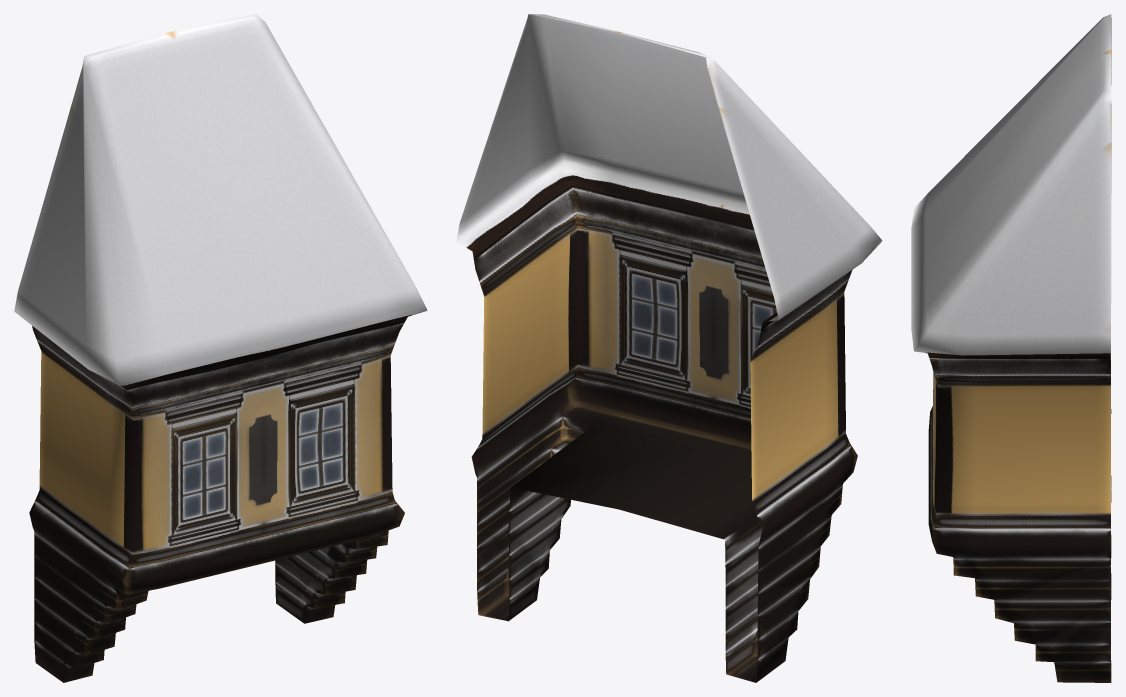
Rendered from Extension-2.FBX.
3 renders of one model, left to right at view 1: azimuth 30°, elevation 25°; view 2: azimuth 150°, elevation 25°; view 3: azimuth 270°, elevation 25°, orthographic. The views are drawn at different scales.
Visible parts, largest first — view 1: Extension-2; view 2: Extension-2; view 3: Extension-2.
Part boxes in pixels (<box>): Extension-2: <box>14,14,427,682</box>; Extension-2: <box>456,14,882,682</box>; Extension-2: <box>911,14,1111,682</box>.
Bounding box in the file's own units: 31.37 × 56.21 × 17.95.
1 material, 1 textured.
